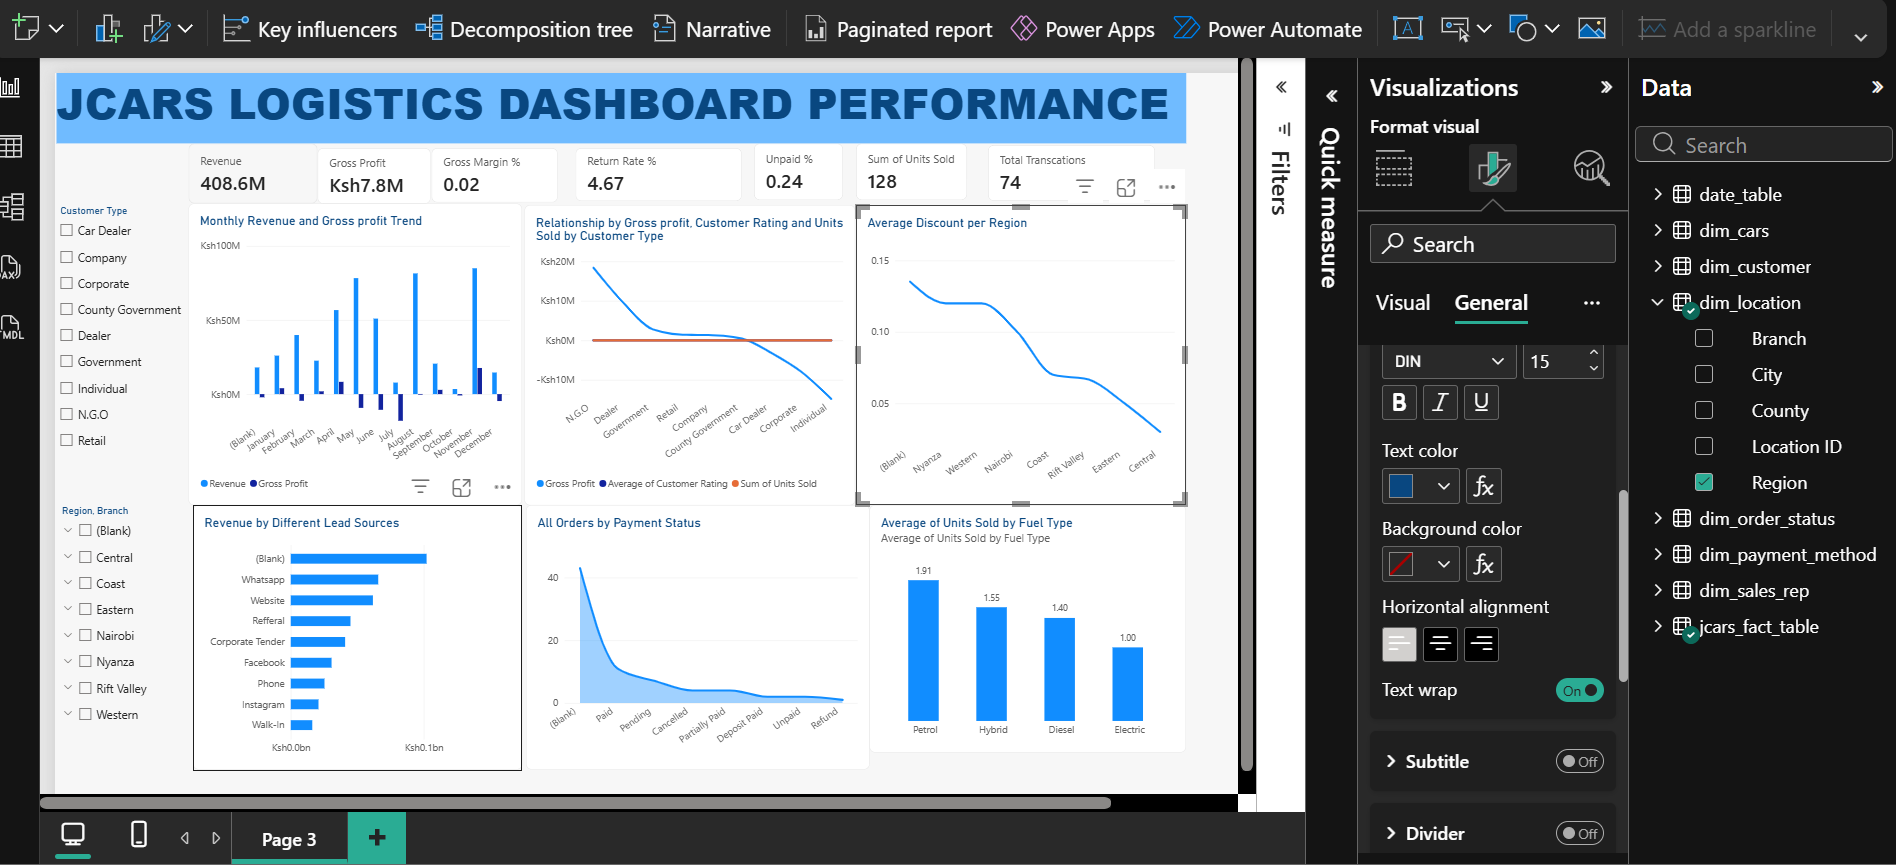

What the dashboard file says about the page in this screenshot:
{"tool":"powerbi","page":{"name":"Page 1","canvas":[1920,1080],"ordinal":0},"visuals":[{"type":"textbox","box":[10.2,167.3,112.2,82.7],"z":1001},{"type":"cardVisual","fields":{"Data":["jcars_fact_table.Revenue"]},"box":[193.8,102.1,187.5,87.5],"z":1002},{"type":"cardVisual","fields":{"Data":["jcars_fact_table.Gross Profit"]},"box":[381.2,108.3,164.6,81.2],"z":1003},{"type":"cardVisual","fields":{"Data":["jcars_fact_table.Gross Margin %"]},"box":[545.8,108.3,183.3,79.2],"z":1004},{"type":"cardVisual","fields":{"Data":["jcars_fact_table.Unpaid %"]},"box":[932.6,106.5,129.6,82.7],"z":1005},{"type":"cardVisual","fields":{"Data":["Sum(jcars_fact_table.Units Sold)"]},"box":[1237,102.2,161.2,82.7],"z":1006},{"type":"slicer","fields":{"Values":["dim_location.Region","dim_location.Branch"]},"box":[0,556.5,197.9,358.3],"z":1007},{"type":"slicer","fields":{"Values":["dim_customer.Customer Type"]},"box":[0,108.7,187.5,418.1],"z":1008},{"type":"clusteredColumnChart","title":"Monthly Revenue and Gross profit Trend","fields":{"Category":["date_table.Delivery Date.Variation.Date Hierarchy.Month"],"Y":["jcars_fact_table.Revenue","jcars_fact_table.Gross Profit"]},"box":[193.8,189.6,483.3,437.5],"z":1009},{"type":"lineChart","title":"Relationship by Gross profit, Customer Rating and Units Sold  by  Customer Type","fields":{"Category":["dim_customer.Customer Type"],"Y":["jcars_fact_table.Gross Profit","Avg(jcars_fact_table.Customer Rating)","Sum(jcars_fact_table.Units Sold)"]},"box":[681.2,191.7,479.2,435.4],"z":1010},{"type":"cardVisual","fields":{"Data":["jcars_fact_table.Total Transcations"]},"box":[1397.8,102.2,242.4,81.4],"z":1011},{"type":"clusteredBarChart","title":"Revenue by Different Lead Sources","fields":{"Category":["dim_sales_rep.Lead Source"],"Y":["jcars_fact_table.Revenue"]},"box":[200,627.1,477.1,383.3],"z":1012},{"type":"lineChart","title":"Average Discount per Region","fields":{"Category":["dim_location.Region"],"Y":["jcars_fact_table.Average Discount"]},"box":[1160.4,191.7,479,435],"z":1013},{"type":"areaChart","title":"All Orders by Payment Status","fields":{"Category":["dim_order_status.Payment Status"],"Y":["jcars_fact_table.All Orders"]},"box":[683.3,627.1,497.9,383.3],"z":1014},{"type":"shape","title":"JCARS  LOGISTICS DASHBOARD PERFORMANCE","box":[2.1,0,1637.5,102.1],"z":1015},{"type":"cardVisual","fields":{"Data":["jcars_fact_table.Return Rate %"]},"box":[754.3,108.7,178.3,76.1],"z":1016},{"type":"clusteredColumnChart","title":"Average of Units Sold by Fuel Type","fields":{"Category":["dim_cars.Fuel Type"],"Y":["Avg(jcars_fact_table.Units Sold)"]},"box":[1181.2,627.1,458.3,358.3],"z":1017},{"type":"cardVisual","fields":{"Data":["jcars_fact_table.Unpaid Revenue"]},"box":[1047.8,108.7,173.9,76.1],"z":1018}]}

Visuals, with their boxes on the page's 1920x1080 design canvas (x1, y1, x2, y2). These are canvas units, not pixel positions in the 1896x865 screenshot, which may show the page scaled, cropped or inside an application window:
textbox: <box>10,167,122,250</box>
cardVisual - jcars_fact_table.Revenue: <box>194,102,381,190</box>
cardVisual - jcars_fact_table.Gross Profit: <box>381,108,546,190</box>
cardVisual - jcars_fact_table.Gross Margin %: <box>546,108,729,188</box>
cardVisual - jcars_fact_table.Unpaid %: <box>933,106,1062,189</box>
cardVisual - Sum(jcars_fact_table.Units Sold): <box>1237,102,1398,185</box>
slicer - dim_location.Region x dim_location.Branch: <box>0,556,198,915</box>
slicer - dim_customer.Customer Type: <box>0,109,188,527</box>
"Monthly Revenue and Gross profit Trend" clusteredColumnChart: <box>194,190,677,627</box>
"Relationship by Gross profit, Customer Rating and Units Sold  by  Customer Type" lineChart: <box>681,192,1160,627</box>
cardVisual - jcars_fact_table.Total Transcations: <box>1398,102,1640,184</box>
"Revenue by Different Lead Sources" clusteredBarChart: <box>200,627,677,1010</box>
"Average Discount per Region" lineChart: <box>1160,192,1639,627</box>
"All Orders by Payment Status" areaChart: <box>683,627,1181,1010</box>
"JCARS  LOGISTICS DASHBOARD PERFORMANCE" shape: <box>2,0,1640,102</box>
cardVisual - jcars_fact_table.Return Rate %: <box>754,109,933,185</box>
"Average of Units Sold by Fuel Type" clusteredColumnChart: <box>1181,627,1640,985</box>
cardVisual - jcars_fact_table.Unpaid Revenue: <box>1048,109,1222,185</box>
